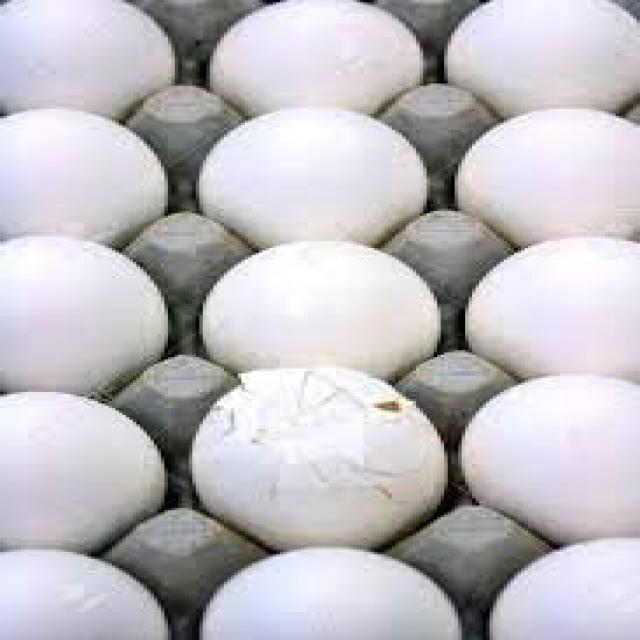biodegradable: (186, 371, 452, 540), (200, 238, 466, 376), (460, 361, 640, 539), (198, 107, 433, 240), (454, 229, 640, 366), (0, 386, 163, 539), (1, 238, 168, 386), (193, 549, 469, 638), (454, 111, 640, 229), (216, 8, 433, 108), (0, 113, 172, 238), (448, 0, 640, 109), (0, 0, 164, 106), (0, 540, 171, 639), (488, 541, 640, 638)
